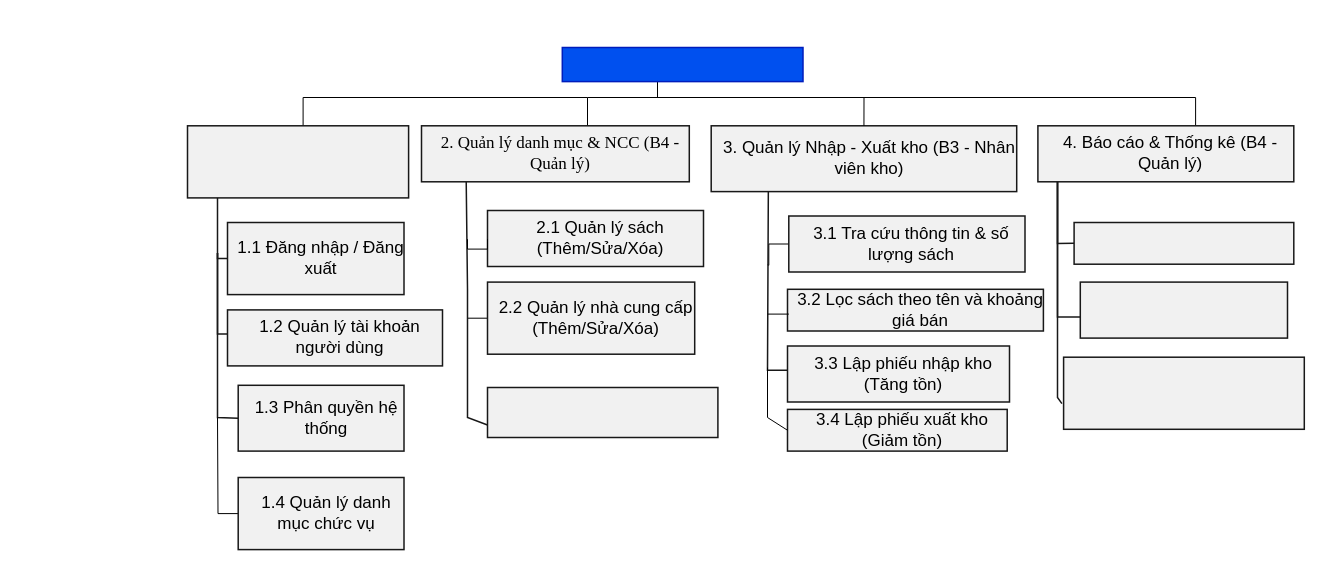
Some shapes in this 1322 by 567 pixel diagram are drawn without their labels. The centre of each missing label's shape, as x and y in pixels:
1. Quản trị hệ thống (Admin): (x=297, y=161)
2.3 Tìm kiếm, sắp xếp sách và NCC: (x=602, y=412)
4.1 Thống kê lịch sử nhập kho theo tháng/năm: (x=1183, y=242)
4.2 Xem chi tiết phiếu nhập kho: (x=1183, y=309)
4.3 In và lưu trữ phiếu nhập kho (PDF): (x=1183, y=393)
Hệ thống Quản lý kho sách: (x=682, y=64)
